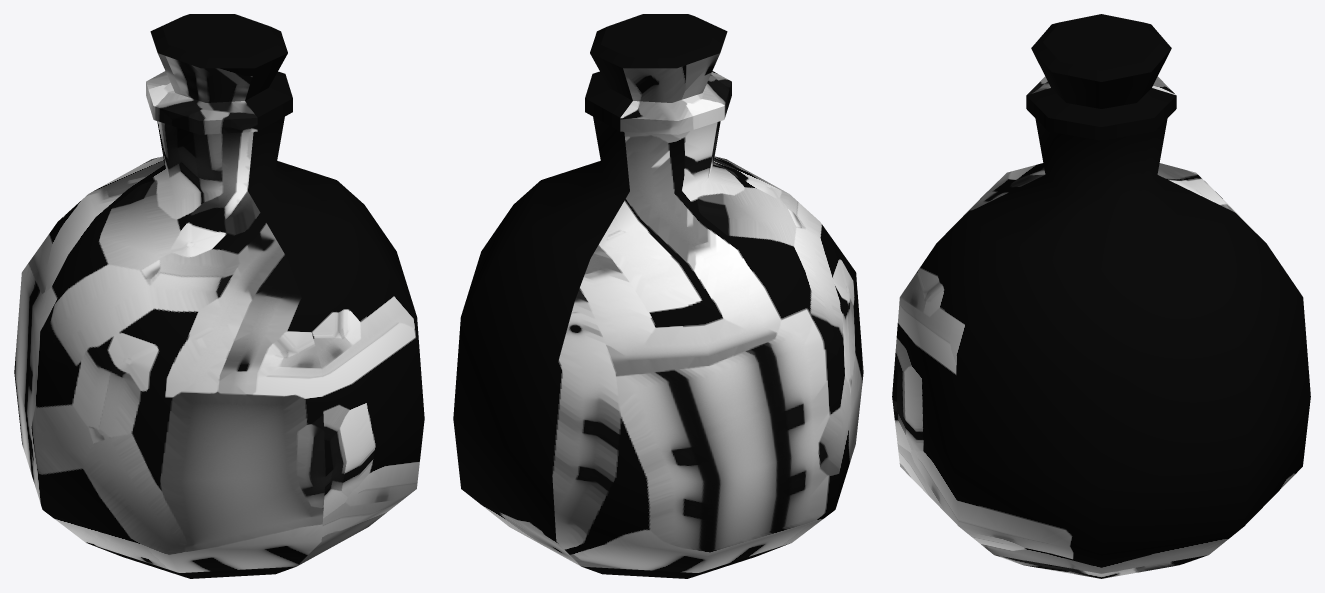
File: Bottle2_V2.fbx
3 renders of one model, left to right at view 1: azimuth 30°, elevation 25°; view 2: azimuth 150°, elevation 25°; view 3: azimuth 270°, elevation 25°, orthographic.
Parts seen in each view (by area): view 1: Bottle2_V2; view 2: Bottle2_V2; view 3: Bottle2_V2.
Part boxes in pixels (x1=…): Bottle2_V2: x1=14, y1=14, x2=424, y2=578; Bottle2_V2: x1=453, y1=14, x2=863, y2=578; Bottle2_V2: x1=892, y1=14, x2=1310, y2=578.
Size of the model in its own units: 665 by 865 by 665.
